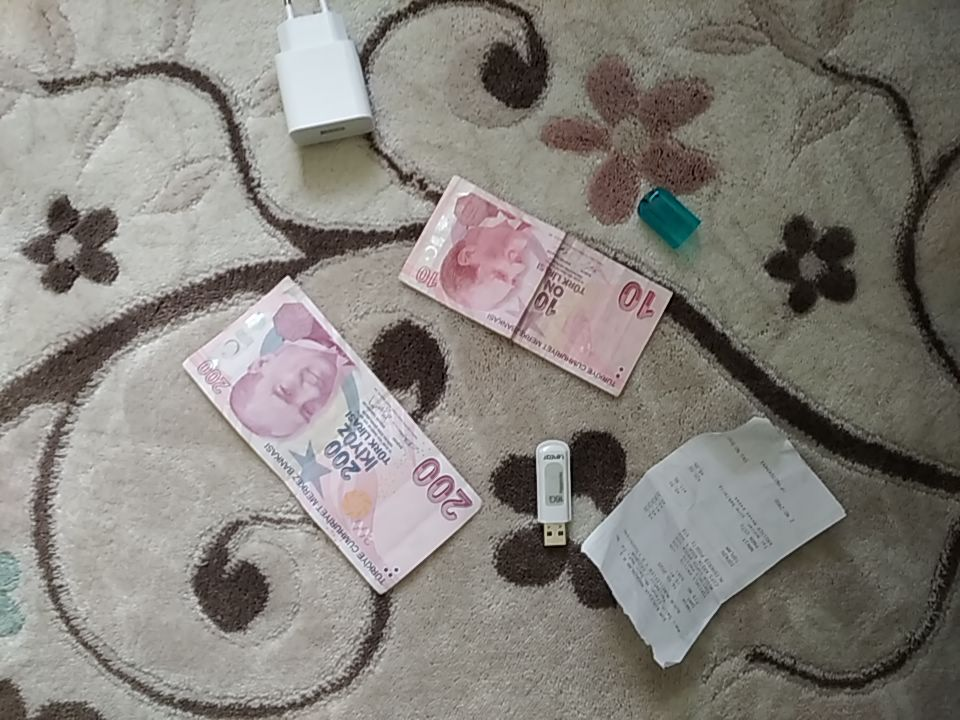200TL: (178, 274, 484, 597)
